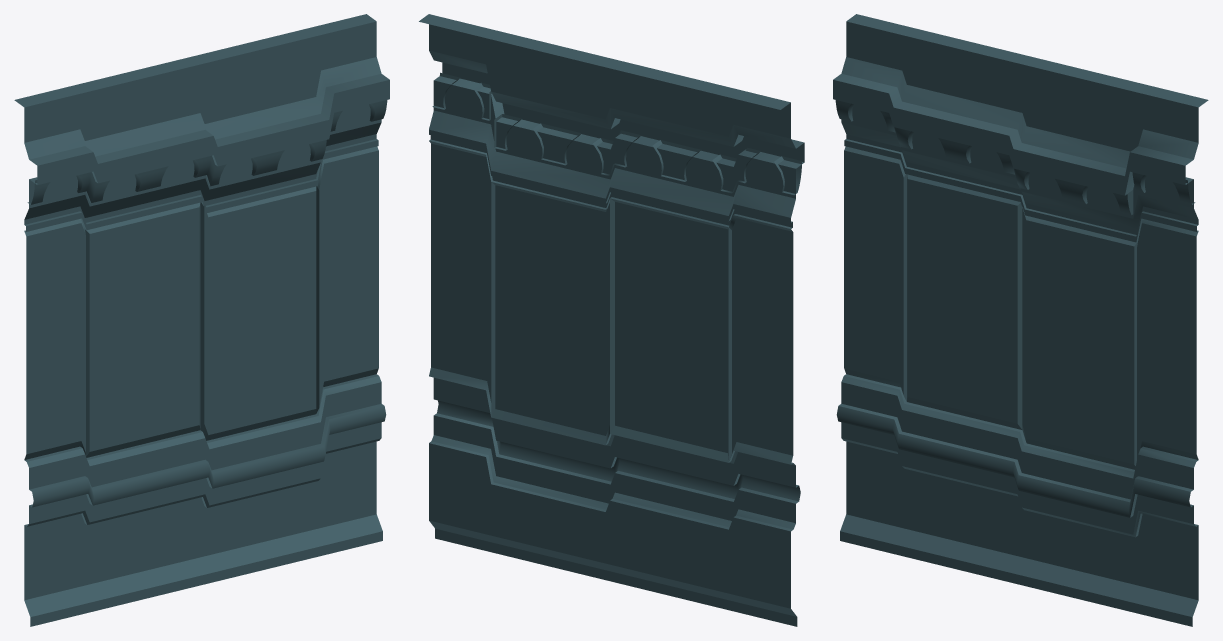
The model's file is Wall_Anxi_A.fbx.
3 renders of one model, left to right at view 1: azimuth 30°, elevation 25°; view 2: azimuth 150°, elevation 25°; view 3: azimuth 330°, elevation 25°, orthographic. The views are drawn at different scales.
Parts seen in each view (by area): view 1: Wall_Mirror_Crooked; view 2: Wall_Mirror_Crooked; view 3: Wall_Mirror_Crooked.
Boxes of the visible parts, <box> form: Wall_Mirror_Crooked: <box>14,14,389,626</box>; Wall_Mirror_Crooked: <box>419,14,804,626</box>; Wall_Mirror_Crooked: <box>833,14,1208,626</box>.
Bounding box in the file's own units: 20 × 27.92 × 2.29.
